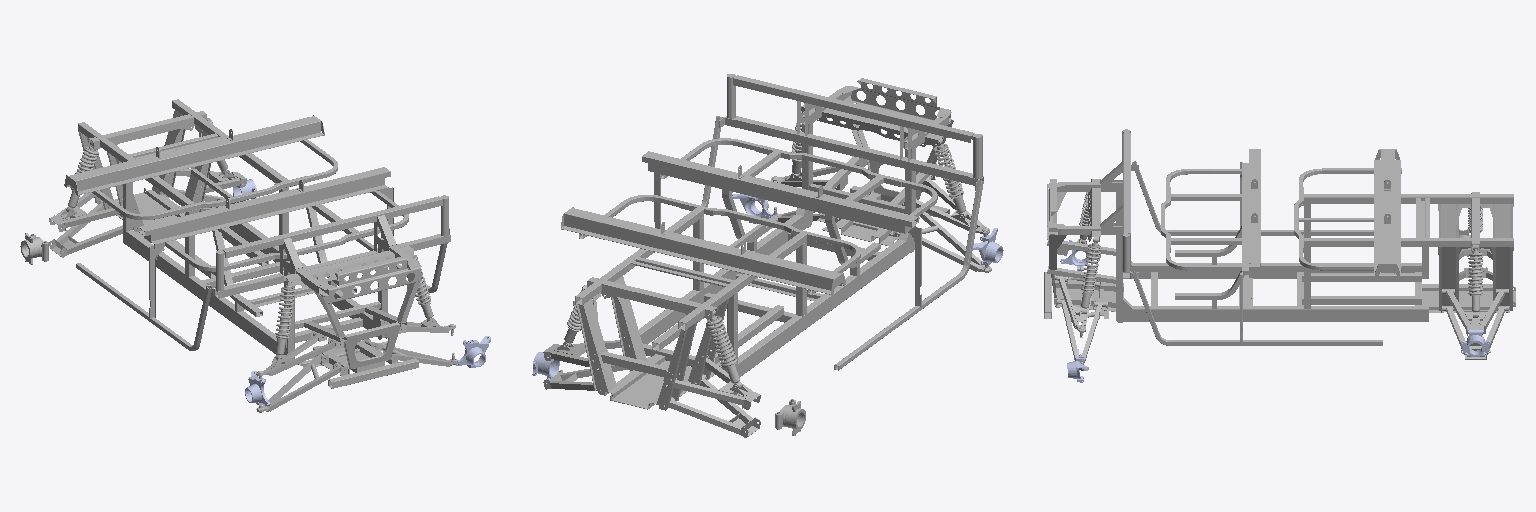
--- Facts derived from the render (not from the file) ---
The picture shows the robot from 3 angles, left to right: view 1: azimuth 30°, elevation 25°; view 2: azimuth 150°, elevation 25°; view 3: azimuth 270°, elevation 25°; orthographic projection.
Robot: panter — 21 links, 20 joints (12 revolute, 4 continuous, 4 fixed); root link base_link; default pose: all joints at 0.
Visible links, largest first — view 1: base_link, SD03_DCH, ST03_DCH, ST02_DCH, SD02_DCH, SD01_DCH, SD03_IZQ, Mangueta_del_izq, ST02_IZQ, Mangueta_tras_dch, ST01_DCH, Mangueta_del_dch; view 2: base_link, ST03_DCH, ST02_DCH, SD03_DCH, ST01_DCH, SD02_DCH, ST02_IZQ, ST03_IZQ, SD01_DCH, Mangueta_tras_dch, Mangueta_del_dch; view 3: base_link, ST02_IZQ, ST01_IZQ, SD01_IZQ, ST03_IZQ, SD03_IZQ, SD02_IZQ.
Link boxes in pixels (box(x1,y1,x2,y2)): base_link: box(64, 99, 450, 388); SD03_DCH: box(256, 354, 344, 412); ST03_DCH: box(49, 200, 136, 257); ST02_DCH: box(49, 189, 134, 231); SD02_DCH: box(256, 332, 340, 378); SD01_DCH: box(275, 279, 294, 359); SD03_IZQ: box(365, 340, 457, 366); Mangueta_del_izq: box(455, 336, 490, 367); ST02_IZQ: box(168, 169, 246, 194); Mangueta_tras_dch: box(20, 233, 48, 264); ST01_DCH: box(66, 141, 98, 212); Mangueta_del_dch: box(245, 371, 270, 405); base_link: box(561, 74, 983, 410); ST03_DCH: box(664, 374, 760, 437); ST02_DCH: box(666, 355, 760, 409); SD03_DCH: box(899, 208, 991, 272); ST01_DCH: box(707, 310, 741, 388); SD02_DCH: box(903, 175, 989, 236); ST02_IZQ: box(543, 340, 629, 369); ST03_IZQ: box(543, 365, 628, 390); SD01_DCH: box(934, 138, 967, 218); Mangueta_tras_dch: box(775, 399, 805, 435); Mangueta_del_dch: box(973, 228, 1003, 265); base_link: box(1044, 129, 1515, 345); ST02_IZQ: box(1442, 289, 1508, 335); ST01_IZQ: box(1468, 245, 1482, 317); SD01_IZQ: box(1081, 237, 1101, 313); ST03_IZQ: box(1442, 306, 1508, 359); SD03_IZQ: box(1057, 299, 1106, 364); SD02_IZQ: box(1054, 275, 1099, 337).
Size in the robot's own frame: 1.61 by 2.62 by 0.8875 metres.
Meshes: 21 distinct files referenced, 17 mesh visuals loaded (17 binary STL); not drawn: 4 (reference not matched to a file when rendering).

URDF robot description (panter):
<?xml version="1.0" encoding="utf-8"?>
<!-- This URDF was automatically created by SolidWorks to URDF Exporter! Originally created by Stephen Brawner ([email redacted]) 
     Commit Version: 1.6.0-4-g7f85cfe  Build Version: 1.6.7995.38578
     For more information, please see http://wiki.ros.org/sw_urdf_exporter -->

<robot
  name="panter">
  <link
    name="base_link">
    <inertial>
      <origin
        xyz="-0.00880173011979828 0.622679586820786 0.409100824362744"
        rpy="0 0 0" />
      <mass
        value="16.2395734011937" />
      <inertia
        ixx="0.662204805344214"
        ixy="0.00106283123214879"
        ixz="3.4341611745379E-05"
        iyy="1.36310261321388"
        iyz="-0.00185780886666987"
        izz="0.826413764651877" />
    </inertial>
    <visual>
      <origin
        xyz="0 0 0"
        rpy="0 0 0" />
      <geometry>
        <mesh
          filename="package://description_pkg/meshes/CH.STL" />
      </geometry>
      <material
        name="">
        <color
          rgba="0.752941176470588 0.752941176470588 0.752941176470588 1" />
      </material>
    </visual>
    <collision>
      <origin
        xyz="0 0 0"
        rpy="0 0 0" />
      <geometry>
        <mesh
          filename="package://description_pkg/meshes/CH.STL" />
      </geometry>
    </collision>
  </link>
  <link
    name="SD01_IZQ">
    <inertial>
      <origin
        xyz="0.023095387698848 0.0466016681758654 -0.187519014527033"
        rpy="0 0 0" />
      <mass
        value="1.56443700619495" />
      <inertia
        ixx="0.0054896363326847"
        ixy="-0.000185514968568694"
        ixz="0.00075298015942053"
        iyy="0.00531762879813639"
        iyz="0.00114868462288693"
        izz="0.00101605585965138" />
    </inertial>
    <visual>
      <origin
        xyz="0 0 0"
        rpy="0 0 0" />
      <geometry>
        <mesh
          filename="package://description_pkg/meshes/SD01_IZQ.STL" />
      </geometry>
      <material
        name="">
        <color
          rgba="0.752941176470588 0.752941176470588 0.752941176470588 1" />
      </material>
    </visual>
    <collision>
      <origin
        xyz="0 0 0"
        rpy="0 0 0" />
      <geometry>
        <mesh
          filename="package://description_pkg/meshes/SD01_IZQ.STL" />
      </geometry>
    </collision>
  </link>

  <joint
    name="SD01_IZQ_sup_joint"
    type="revolute">
    <origin
      xyz="0.364 -1.4598 0.85354"
      rpy="0 0 -1.5708" />
    <parent
      link="base_link" />
    <child
      link="SD01_IZQ" />
    <axis
      xyz="1 0 0" />
    <limit
      lower="0"
      upper="0"
      effort="0"
      velocity="0" />
  </joint>

  <link
    name="SD02_IZQ">
    <inertial>
      <origin
        xyz="-0.109382785122553 0.00538487649739164 -0.016693818528262"
        rpy="0 0 0" />
      <mass
        value="0.622420648905112" />
      <inertia
        ixx="0.00677202938721807"
        ixy="-0.00032427855560881"
        ixz="3.65258159557858E-05"
        iyy="0.00111523663422429"
        iyz="0.00191718137163241"
        izz="0.00655957488261609" />
    </inertial>
    <visual>
      <origin
        xyz="0 0 0"
        rpy="0 0 0" />
      <geometry>
        <mesh
          filename="package://description_pkg/meshes/SD02_IZQ.STL" />
      </geometry>
      <material
        name="">
        <color
          rgba="0.752941176470588 0.752941176470588 0.752941176470588 1" />
      </material>
    </visual>
    <collision>
      <origin
        xyz="0 0 0"
        rpy="0 0 0" />
      <geometry>
        <mesh
          filename="package://description_pkg/meshes/SD02_IZQ.STL" />
      </geometry>
    </collision>
  </link>
  <joint
    name="SD02_IZQ_CH_joint"
    type="revolute">
    <origin
      xyz="0.1865 -1.6482 0.53091"
      rpy="0 0 -1.5708" />
    <parent
      link="base_link" />
    <child
      link="SD02_IZQ" />
    <axis
      xyz="1 0 0" />
      <!-- xyz="0.069756 0.99756 0" /> -->
    <limit
      lower="0"
      upper="0"
      effort="0"
      velocity="0" />
  </joint>
  <link
    name="Mangueta_del_izq">
    <inertial>
      <origin
        xyz="-0.00497345711760122 -0.210444823308728 0.028708631857455"
        rpy="0 0 0" />
      <mass
        value="0.657785044151253" />
      <inertia
        ixx="0.000818666431242726"
        ixy="6.87964117180795E-06"
        ixz="0.000112075156886058"
        iyy="0.00160628936815674"
        iyz="-2.77497675092315E-05"
        izz="0.00115594236415572" />
    </inertial>
    <visual>
      <origin
        xyz="0 0 0"
        rpy="0 0 0" />
      <geometry>
        <mesh
          filename="package://description_pkg/meshes/MGD_IZQ.STL" />
      </geometry>
      <material
        name="">
        <color
          rgba="0.792156862745098 0.819607843137255 0.933333333333333 1" />
      </material>
    </visual>
    <collision>
      <origin
        xyz="0 0 0"
        rpy="0 0 0" />
      <geometry>
        <mesh
          filename="package://description_pkg/meshes/MGD_IZQ.STL" />
      </geometry>
    </collision>
  </link>
  <joint
    name="Mangueta_del_izq_joint"
    type="fixed">
    <origin
      xyz="-0.11217 0.52087 -0.23886"
      rpy="0 0 0" />
    <parent
      link="SD02_IZQ" />
    <child
      link="Mangueta_del_izq" />
    <axis
      xyz="0 0 0" />
  </joint>
  <link
    name="ED_IZQ">
    <inertial>
      <origin
        xyz="9.83891827921468E-06 -0.0201678086647318 0.00124512879040783"
        rpy="0 0 0" />
      <mass
        value="29.1393624990723" />
      <inertia
        ixx="0.813594658177696"
        ixy="6.54522235780315E-08"
        ixz="-6.14314543670018E-09"
        iyy="1.43775571114071"
        iyz="-0.0383150788672202"
        izz="0.815946712920848" />
    </inertial>
    <visual>
      <origin
        xyz="0 0 0"
        rpy="1.5707 0 0" />
      <geometry>
        <mesh
          filename="package://description_pkg/meshes/ED_IZQ.STL" />
      </geometry>
      <material
        name="">
        <color
          rgba="0.792156862745098 0.819607843137255 0.933333333333333 1" />
      </material>
    </visual>
    <collision>
      <origin
        xyz="0 0 0"
        rpy="1.5707 0 0" />
      <geometry>
        <mesh
          filename="package://description_pkg/meshes/ED_IZQ.STL" />
      </geometry>
    </collision>
  </link>
  <joint
    name="ED_IZQ_joint"
    type="continuous">
    <origin
      xyz="0 0 0"
      rpy="0 0 0" />
    <parent
      link="Mangueta_del_izq" />
    <child
      link="ED_IZQ" />
    <axis
      xyz="0 1 0" />
  </joint>
  <link
    name="SD03_IZQ">
    <inertial>
      <origin
        xyz="-0.097367551528877 0.158067753702783 -0.0696606835357823"
        rpy="0 0 0" />
      <mass
        value="0.468898614819818" />
      <inertia
        ixx="0.00505911557852378"
        ixy="-0.000121765335801827"
        ixz="1.81818642259916E-05"
        iyy="0.00122147601558512"
        iyz="0.00174136109600662"
        izz="0.00479917105508991" />
    </inertial>
    <visual>
      <origin
        xyz="0 0 0"
        rpy="0 0 0" />
      <geometry>
        <mesh
          filename="package://description_pkg/meshes/SD03_IZQ.STL" />
      </geometry>
      <material
        name="">
        <color
          rgba="0.752941176470588 0.752941176470588 0.752941176470588 1" />
      </material>
    </visual>
    <collision>
      <origin
        xyz="0 0 0"
        rpy="0 0 0" />
      <geometry>
        <mesh
          filename="package://description_pkg/meshes/SD03_IZQ.STL" />
      </geometry>
    </collision>
  </link>

<joint name="SD03_IZQ_CH_joint" type="revolute">
  <parent link="base_link"/>
  <child link="SD03_IZQ"/>
  <!-- <axis xyz="1 0 0" /> -->
  <axis xyz="1 0 0.07"/>
  <!-- hay que ajustar el eje sobre el que gira, no esta alineado con x, pero con solid lo podemos obtener  .069756 -->
  <limit lower="-3.14159" upper="3.14159" velocity="50.0" effort="1000.0"/>
  <origin
      xyz="0.151 -1.6306 0.37054"
      rpy="0 0 -1.5708" />
</joint>

  <link
    name="SD01_DCH">
    <inertial>
      <origin
        xyz="0.0147151277156394 -0.0466016638374874 -0.188936395717115"
        rpy="0 0 0" />
      <mass
        value="1.5644373485476" />
      <inertia
        ixx="0.00547351601733842"
        ixy="0.0002025684338576"
        ixz="0.000799273132675563"
        iyy="0.00531762933682683"
        iyz="-0.0011458003645297"
        izz="0.00103217687096616" />
    </inertial>
    <visual>
      <origin
        xyz="0 0 0"
        rpy="0 0 0" />
      <geometry>
        <mesh
          filename="package://description_pkg/meshes/SD01_DCH.STL" />
      </geometry>
      <material
        name="">
        <color
          rgba="0.752941176470588 0.752941176470588 0.752941176470588 1" />
      </material>
    </visual>
    <collision>
      <origin
        xyz="0 0 0"
        rpy="0 0 0" />
      <geometry>
        <mesh
          filename="package://description_pkg/meshes/SD01_DCH.STL" />
      </geometry>
    </collision>
  </link>
  <joint
    name="SD01_DCH_sup_joint"
    type="revolute">
    <origin
      xyz="-0.364 -1.4682 0.85496"
      rpy="0 0 -1.5708" />
    <parent
      link="base_link" />
    <child
      link="SD01_DCH" />
    <axis
      xyz="1 0 0" />
    <limit
      lower="0"
      upper="0"
      effort="0"
      velocity="0" />
  </joint>
  <link
    name="SD02_DCH">
    <inertial>
      <origin
        xyz="-0.100708620793033 -0.178807887505557 -0.0713964836359323"
        rpy="0 0 0" />
      <mass
        value="0.335019981141928" />
      <inertia
        ixx="0.00342642521801625"
        ixy="-0.000175463505193739"
        ixz="-8.53632722802387E-05"
        iyy="0.000560176153155334"
        iyz="-0.00101420516690993"
        izz="0.00324706649765957" />
    </inertial>
    <visual>
      <origin
        xyz="0 0 0"
        rpy="0 0 0" />
      <geometry>
        <mesh
          filename="package://description_pkg/meshes/SD02_DCH.STL" />
      </geometry>
      <material
        name="">
        <color
          rgba="0.752941176470588 0.752941176470588 0.752941176470588 1" />
      </material>
    </visual>
    <collision>
      <origin
        xyz="0 0 0"
        rpy="0 0 0" />
      <geometry>
        <mesh
          filename="package://description_pkg/meshes/SD02_DCH.STL" />
      </geometry>
    </collision>
  </link>
  <joint
    name="SD02_DCH_CH_joint"
    type="revolute">
    <origin
      xyz="-0.1865 -1.6482 0.53091"
      rpy="0 0 -1.5708" />
    <parent
      link="base_link" />
    <child
      link="SD02_DCH" />
    <axis
      xyz="1 0 0" />
    <limit
      lower="0"
      upper="0"
      effort="0"
      velocity="0" />
  </joint>
  <link
    name="Mangueta_del_dch">
    <inertial>
      <origin
        xyz="-0.00499672613858615 0.101475946327662 0.0231953048014176"
        rpy="0 0 0" />
      <mass
        value="0.328788737283037" />
      <inertia
        ixx="0.000408973712801148"
        ixy="-1.51590957094099E-05"
        ixz="5.49889371726592E-05"
        iyy="0.000807927110139834"
        iyz="-2.30270273360574E-05"
        izz="0.000572215537021713" />
    </inertial>
    <visual>
      <origin
        xyz="0 0 0"
        rpy="0 0 0" />
      <geometry>
        <mesh
          filename="package://description_pkg/meshes/MGD_DCH.STL" />
      </geometry>
      <material
        name="">
        <color
          rgba="0.792156862745098 0.819607843137255 0.933333333333333 1" />
      </material>
    </visual>
    <collision>
      <origin
        xyz="0 0 0"
        rpy="0 0 0" />
      <geometry>
        <mesh
          filename="package://description_pkg/meshes/MGD_DCH.STL" />
      </geometry>
    </collision>
  </link>
  <joint
    name="Mangueta_del_dch_joint"
    type="fixed">
    <origin
      xyz="-0.11198 -0.51968 -0.24274"
      rpy="0 0 0" />
    <parent
      link="SD02_DCH" />
    <child
      link="Mangueta_del_dch" />
    <axis
      xyz="0 0 0" />
  </joint>
  <link
    name="ED_DCH">
    <inertial>
      <origin
        xyz="2.29121924788522E-06 0.0201749464629289 0.00146310372559588"
        rpy="0 0 0" />
      <mass
        value="29.1428305698025" />
      <inertia
        ixx="0.813595259424299"
        ixy="1.6609911692007E-08"
        ixz="1.60980609943066E-09"
        iyy="1.43679321483636"
        iyz="0.0454494090796915"
        izz="0.816909826703764" />
    </inertial>
    <visual>
      <origin
        xyz="0 0 0"
        rpy="-1.5707 0 0" />
      <geometry>
        <mesh
          filename="package://description_pkg/meshes/ED_DCH.STL" />
      </geometry>
      <material
        name="">
        <color
          rgba="0.792156862745098 0.819607843137255 0.933333333333333 1" />
      </material>
    </visual>
    <collision>
      <origin
        xyz="0 0 0"
        rpy="-1.5707 0 0" />
      <geometry>
        <mesh
          filename="package://description_pkg/meshes/ED_DCH.STL" />
      </geometry>
    </collision>
  </link>
  <joint
    name="ED_DCH_joint"
    type="continuous">
    <origin
      xyz="0 0 0"
      rpy="0 0 0" />
    <parent
      link="Mangueta_del_dch" />
    <child
      link="ED_DCH" />
    <axis
      xyz="0 1 0" />
  </joint>
  <link
    name="SD03_DCH">
    <inertial>
      <origin
        xyz="-0.0979518472036578 -0.169078002158508 -0.0764949344668193"
        rpy="0 0 0" />
      <mass
        value="0.395241260034587" />
      <inertia
        ixx="0.00503011023626271"
        ixy="0.000168676429607526"
        ixz="4.78400238798921E-05"
        iyy="0.00114327113657789"
        iyz="-0.00177766605683892"
        izz="0.00461706807689286" />
    </inertial>
    <visual>
      <origin
        xyz="0 0 0"
        rpy="0 0 0" />
      <geometry>
        <mesh
          filename="package://description_pkg/meshes/SD03_DCH.STL" />
      </geometry>
      <material
        name="">
        <color
          rgba="0.752941176470588 0.752941176470588 0.752941176470588 1" />
      </material>
    </visual>
    <collision>
      <origin
        xyz="0 0 0"
        rpy="0 0 0" />
      <geometry>
        <mesh
          filename="package://description_pkg/meshes/SD03_DCH.STL" />
      </geometry>
    </collision>
  </link>
  <joint
    name="SD03_DCH_CH_joint"
    type="revolute">
    <origin
      xyz="-0.151 -1.6306 0.37054"
      rpy="0 0 -1.5708" />
    <parent
      link="base_link" />
    <child
      link="SD03_DCH" />
    <axis
      xyz="1 0 0" />
    <limit
      lower="0"
      upper="0"
      effort="0"
      velocity="0" />
  </joint>
  <link
    name="ST01_IZQ">
    <inertial>
      <origin
        xyz="0.00849916904573988 0.0657819927228204 -0.159438279696458"
        rpy="0 0 0" />
      <mass
        value="1.68652397926041" />
      <inertia
        ixx="0.00633380015599702"
        ixy="-1.45261475353967E-05"
        ixz="3.52667266964353E-05"
        iyy="0.0055250803137682"
        iyz="0.0019468091581656"
        izz="0.00160836691478163" />
    </inertial>
    <visual>
      <origin
        xyz="0 0 0"
        rpy="0 0 0" />
      <geometry>
        <mesh
          filename="package://description_pkg/meshes/ST01_IZQ.STL" />
      </geometry>
      <material
        name="">
        <color
          rgba="0.752941176470588 0.752941176470588 0.752941176470588 1" />
      </material>
    </visual>
    <collision>
      <origin
        xyz="0 0 0"
        rpy="0 0 0" />
      <geometry>
        <mesh
          filename="package://description_pkg/meshes/ST01_IZQ.STL" />
      </geometry>
    </collision>
  </link>
  <joint
    name="ST01_IZQ_sup_joint"
    type="revolute">
    <origin
      xyz="0.3275 0.66468 0.79122"
      rpy="0 0 -1.5708" />
    <parent
      link="base_link" />
    <child
      link="ST01_IZQ" />
    <axis
      xyz="1 0 0" />
    <limit
      lower="0"
      upper="0"
      effort="0"
      velocity="0" />
  </joint>
  <link
    name="ST02_IZQ">
    <inertial>
      <origin
        xyz="0.150000005167412 0.17487915113979 -0.0332493411124752"
        rpy="0 0 0" />
      <mass
        value="0.816782909187791" />
      <inertia
        ixx="0.00805847541687784"
        ixy="9.94042597564868E-10"
        ixz="4.393272678471E-09"
        iyy="0.00136969060130727"
        iyz="0.00150446688084042"
        izz="0.00869514722257052" />
    </inertial>
    <visual>
      <origin
        xyz="0 0 0"
        rpy="0 0 0" />
      <geometry>
        <mesh
          filename="package://description_pkg/meshes/ST02_IZQ.STL" />
      </geometry>
      <material
        name="">
        <color
          rgba="0.752941176470588 0.752941176470588 0.752941176470588 1" />
      </material>
    </visual>
    <collision>
      <origin
        xyz="0 0 0"
        rpy="0 0 0" />
      <geometry>
        <mesh
          filename="package://description_pkg/meshes/ST02_IZQ.STL" />
      </geometry>
    </collision>
  </link>
  <joint
    name="ST02_IZQ_CH_joint"
    type="revolute">
    <origin
      xyz="0.19 0.80618 0.45222"
      rpy="0 0 -1.5708" />
    <parent
      link="base_link" />
    <child
      link="ST02_IZQ" />
    <axis
      xyz="1 0 0" />
    <limit
      lower="0"
      upper="0"
      effort="0"
      velocity="0" />
  </joint>
  <link
    name="ST03_IZQ">
    <inertial>
      <origin
        xyz="0.149999999999999 0.164533605888154 -0.0525148439282281"
        rpy="0 0 0" />
      <mass
        value="0.341061626894355" />
      <inertia
        ixx="0.00227935928137915"
        ixy="9.86423410377996E-18"
        ixz="-2.42692932918681E-18"
        iyy="0.000532010440822694"
        iyz="0.000627611706470002"
        izz="0.00233995796668448" />
    </inertial>
    <visual>
      <origin
        xyz="0 0 0"
        rpy="0 0 0" />
      <geometry>
        <mesh
          filename="package://description_pkg/meshes/ST03_IZQ.STL" />
      </geometry>
      <material
        name="">
        <color
          rgba="0.752941176470588 0.752941176470588 0.752941176470588 1" />
      </material>
    </visual>
    <collision>
      <origin
        xyz="0 0 0"
        rpy="0 0 0" />
      <geometry>
        <mesh
          filename="package://description_pkg/meshes/ST03_IZQ.STL" />
      </geometry>
    </collision>
  </link>
  <joint
    name="ST03_IZQ_CH_joint"
    type="revolute">
    <origin
      xyz="0.178 0.80618 0.34222"
      rpy="0 0 -1.5708" />
    <parent
      link="base_link" />
    <child
      link="ST03_IZQ" />
    <axis
      xyz="1 0 0" />
    <limit
      lower="0"
      upper="0"
      effort="0"
      velocity="0" />
  </joint>
  <link
    name="ST01_DCH">
    <inertial>
      <origin
        xyz="0.00850083095421039 -0.0657819927229779 -0.159438279696522"
        rpy="0 0 0" />
      <mass
        value="1.68652397926041" />
      <inertia
        ixx="0.00633380015599698"
        ixy="-1.45261475354718E-05"
        ixz="-3.52667266966141E-05"
        iyy="0.00552508031376817"
        iyz="-0.00194680915816559"
        izz="0.00160836691478164" />
    </inertial>
    <visual>
      <origin
        xyz="0 0 0"
        rpy="0 0 0" />
      <geometry>
        <mesh
          filename="package://description_pkg/meshes/ST01_DCH.STL" />
      </geometry>
      <material
        name="">
        <color
          rgba="0.752941176470588 0.752941176470588 0.752941176470588 1" />
      </material>
    </visual>
    <collision>
      <origin
        xyz="0 0 0"
        rpy="0 0 0" />
      <geometry>
        <mesh
          filename="package://description_pkg/meshes/ST01_DCH.STL" />
      </geometry>
    </collision>
  </link>
  <joint
    name="ST01_DCH_sup_joint"
    type="revolute">
    <origin
      xyz="-0.3275 0.66468 0.79122"
      rpy="0 0 -1.5708" />
    <parent
      link="base_link" />
    <child
      link="ST01_DCH" />
    <axis
      xyz="1 0 0" />
    <limit
      lower="0"
      upper="0"
      effort="0"
      velocity="0" />
  </joint>
  <link
    name="ST02_DCH">
    <inertial>
      <origin
        xyz="0.149999994832603 -0.174879151139789 -0.0332493411124751"
        rpy="0 0 0" />
      <mass
        value="0.816782909187793" />
      <inertia
        ixx="0.00805847541687784"
        ixy="9.94042593343271E-10"
        ixz="-4.39327267255029E-09"
        iyy="0.00136969060130727"
        iyz="-0.00150446688084042"
        izz="0.00869514722257053" />
    </inertial>
    <visual>
      <origin
        xyz="0 0 0"
        rpy="0 0 0" />
      <geometry>
        <mesh
          filename="package://description_pkg/meshes/ST02_DCH.STL" />
      </geometry>
      <material
        name="">
        <color
          rgba="0.752941176470588 0.752941176470588 0.752941176470588 1" />
      </material>
    </visual>
    <collision>
      <origin
        xyz="0 0 0"
        rpy="0 0 0" />
      <geometry>
        <mesh
          filename="package://description_pkg/meshes/ST02_DCH.STL" />
      </geometry>
    </collision>
  </link>
  <joint
    name="ST02_DCH_CH_joint"
    type="revolute">
    <origin
      xyz="-0.19 0.80618 0.45222"
      rpy="0 0 -1.5708" />
    <parent
      link="base_link" />
    <child
      link="ST02_DCH" />
    <axis
      xyz="1 0 0" />
    <limit
      lower="0"
      upper="0"
      effort="0"
      velocity="0" />
  </joint>
  <link
    name="Mangueta_tras_dch">
    <inertial>
      <origin
        xyz="4.52389224525618E-07 0.113286548456591 -0.00345190812278645"
        rpy="0 0 0" />
      <mass
        value="0.586281219463848" />
      <inertia
        ixx="0.00134163383667941"
        ixy="4.27082614246778E-08"
        ixz="4.18056539755781E-06"
        iyy="0.00163581388758224"
        iyz="2.580804437242E-05"
        izz="0.000954188830725327" />
    </inertial>
    <visual>
      <origin
        xyz="0 0 0"
        rpy="0 0 0" />
      <geometry>
        <mesh
          filename="package://description_pkg/meshes/MGT_DCH.STL" />
      </geometry>
      <material
        name="">
        <color
          rgba="0.752941176470588 0.752941176470588 0.752941176470588 1" />
      </material>
    </visual>
    <collision>
      <origin
        xyz="0 0 0"
        rpy="0 0 0" />
      <geometry>
        <mesh
          filename="package://description_pkg/meshes/MGT_DCH.STL" />
      </geometry>
    </collision>
  </link>
  <joint
    name="Mangueta_tras_dch_joint"
    type="fixed">
    <origin
      xyz="0.15 -0.51022 -0.14431"
      rpy="0 0 0" />
    <parent
      link="ST02_DCH" />
    <child
      link="Mangueta_tras_dch" />
    <axis
      xyz="0 0 0" />
  </joint>
  <link
    name="ET_DCH">
    <inertial>
      <origin
        xyz="-0.000703773718821132 0.0238865488241629 -0.000242700430142184"
        rpy="0 0 0" />
      <mass
        value="31.147989855423" />
      <inertia
        ixx="0.862733322783274"
        ixy="-1.41751435672682E-05"
        ixz="-6.44850890575577E-09"
        iyy="1.39706663655937"
        iyz="-0.00542984633879409"
        izz="0.862741174394592" />
    </inertial>
    <visual>
      <origin
        xyz="0 0 0"
        rpy="1.5707 0 0" />
      <geometry>
        <mesh
          filename="package://description_pkg/meshes/ET_DCH.STL" />
      </geometry>
      <material
        name="">
        <color
          rgba="0.752941176470588 0.752941176470588 0.752941176470588 1" />
      </material>
    </visual>
    <collision>
      <origin
        xyz="0 0 0"
        rpy="1.5707 0 0" />
      <geometry>
        <mesh
          filename="package://description_pkg/meshes/ET_DCH.STL" />
      </geometry>
    </collision>
  </link>
  <joint
    name="ET_DCH_joint"
    type="continuous">
    <origin
      xyz="0 0 0"
      rpy="0 0 0" />
    <parent
      link="Mangueta_tras_dch" />
    <child
      link="ET_DCH" />
    <axis
      xyz="0 1 0" />
  </joint>
  <link
    name="ST03_DCH">
    <inertial>
      <origin
        xyz="0.150000000000001 -0.164533605888152 -0.0525148439282279"
        rpy="0 0 0" />
      <mass
        value="0.341061626894354" />
      <inertia
        ixx="0.00227935928137914"
        ixy="3.80110151684503E-18"
        ixz="2.25386593134114E-18"
        iyy="0.000532010440822693"
        iyz="-0.000627611706469999"
        izz="0.00233995796668447" />
    </inertial>
    <visual>
      <origin
        xyz="0 0 0"
        rpy="0 0 0" />
      <geometry>
        <mesh
          filename="package://description_pkg/meshes/ST03_DCH.STL" />
      </geometry>
      <material
        name="">
        <color
          rgba="0.752941176470588 0.752941176470588 0.752941176470588 1" />
      </material>
    </visual>
    <collision>
      <origin
        xyz="0 0 0"
        rpy="0 0 0" />
      <geometry>
        <mesh
          filename="package://description_pkg/meshes/ST03_DCH.STL" />
      </geometry>
    </collision>
  </link>
  <joint
    name="ST03_DCH_CH_joint"
    type="revolute">
    <origin
      xyz="-0.178 0.80618 0.34222"
      rpy="0 0 -1.5708" />
    <parent
      link="base_link" />
    <child
      link="ST03_DCH" />
    <axis
      xyz="1 0 0" />
    <limit
      lower="0"
      upper="0"
      effort="0"
      velocity="0" />
  </joint>

<link
    name="MGT_IZQ">
    <inertial>
      <origin
        xyz="0.069988106311084 -0.0306022880154865 5.74031686517706E-07"
        rpy="0 0 0" />
      <mass
        value="0.451405474193324" />
      <inertia
        ixx="0.000884120311608432"
        ixy="-3.27280002046466E-05"
        ixz="-4.17903307138009E-06"
        iyy="0.00152701411958271"
        iyz="3.77556480315839E-10"
        izz="0.00126994685390396" />
    </inertial>
    <visual>
      <origin
        xyz="0 0 0"
        rpy="0 0 0" />
      <geometry>
        <mesh
          filename="package://description_pkg/meshes/MGT_IZQ.STL" />
      </geometry>
      <material
        name="">
        <color
          rgba="0.792156862745098 0.819607843137255 0.933333333333333 1" />
      </material>
    </visual>
    <collision>
      <origin
        xyz="0 0 0"
        rpy="0 0 0" />
      <geometry>
        <mesh
          filename="package://description_pkg/meshes/MGT_IZQ.STL" />
      </geometry>
    </collision>
  </link>
  <joint
    name="MGT_IZQ_joint"
    type="fixed">
    <origin
      xyz="0.15 0.35805 -0.078868"
      rpy="-1.5708 1.5606 1.5708" />
    <parent
      link="ST02_IZQ" />
    <child
      link="MGT_IZQ" />
    <axis
      xyz="0 0 0" />
  </joint>
  <link
    name="ET_IZQ">
    <inertial>
      <origin
        xyz="-0.000700729202568251 -0.0241520014976043 -0.000245429077767367"
        rpy="0 0 0" />
      <mass
        value="31.2828656144139" />
      <inertia
        ixx="0.862804907337477"
        ixy="1.41722187809032E-05"
        ixz="1.98490047156525E-07"
        iyy="1.39717483715082"
        iyz="0.00543022765064057"
        izz="0.862811943500995" />
    </inertial>
    <visual>
      <origin
        xyz="0 0 0"
        rpy="0 0 0" />
      <geometry>
        <mesh
          filename="package://description_pkg/meshes/ET_IZQ.STL" />
      </geometry>
      <material
        name="">
        <color
          rgba="0.752941176470588 0.752941176470588 0.752941176470588 1" />
      </material>
    </visual>
    <collision>
      <origin
        xyz="0 0 0"
        rpy="0 0 0" />
      <geometry>
        <mesh
          filename="package://description_pkg/meshes/ET_IZQ.STL" />
      </geometry>
    </collision>
  </link>
  <joint
    name="ET_IZQ_joint"
    type="continuous">
    <origin
      xyz="0.067 -0.144 0"
      rpy="3.1314 1.5708 0" />
    <parent
      link="MGT_IZQ" />
    <child
      link="ET_IZQ" />
    <axis
      xyz="0 1 0" />
  </joint>


</robot>
